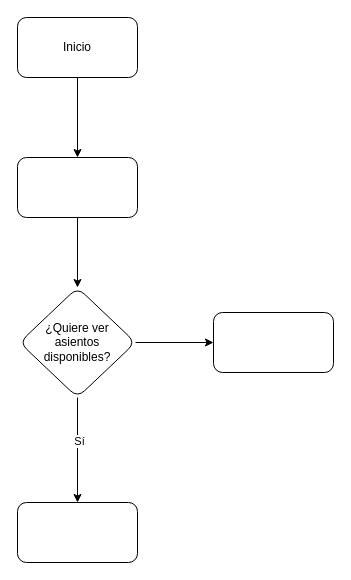
This 351x580 diagram has some shape labels left out. Each missing label, with the centre of its shape:
"Crear matriz Fila / Asientos" goes at point (77, 187).
"Mostrar matriz de asientos disponibles" goes at point (77, 532).
